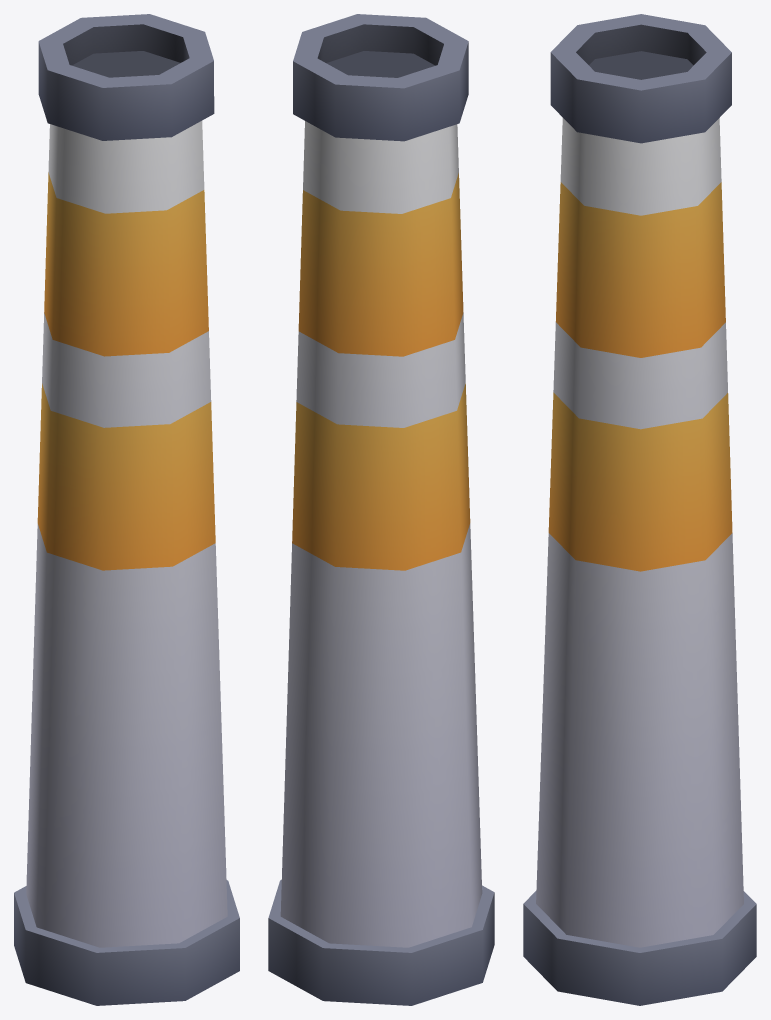
The model's file is chimney-medium_lev1.glb.
3 renders of one model, left to right at view 1: azimuth 30°, elevation 25°; view 2: azimuth 150°, elevation 25°; view 3: azimuth 270°, elevation 25°, orthographic.
Visible parts, largest first — view 1: chimney-medium_lev1; view 2: chimney-medium_lev1; view 3: chimney-medium_lev1.
Boxes of the visible parts, bbox=[...] form: chimney-medium_lev1: bbox=[14, 14, 239, 1005]; chimney-medium_lev1: bbox=[268, 14, 494, 1005]; chimney-medium_lev1: bbox=[523, 14, 756, 1005].
Bounding box in the file's own units: 0.45 × 1.93 × 0.4501.
1 material, 1 textured.
